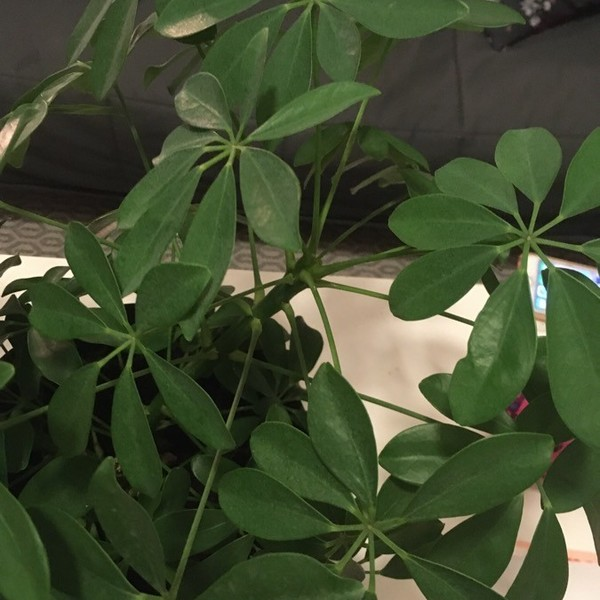obstacle: (83, 174, 550, 585)
